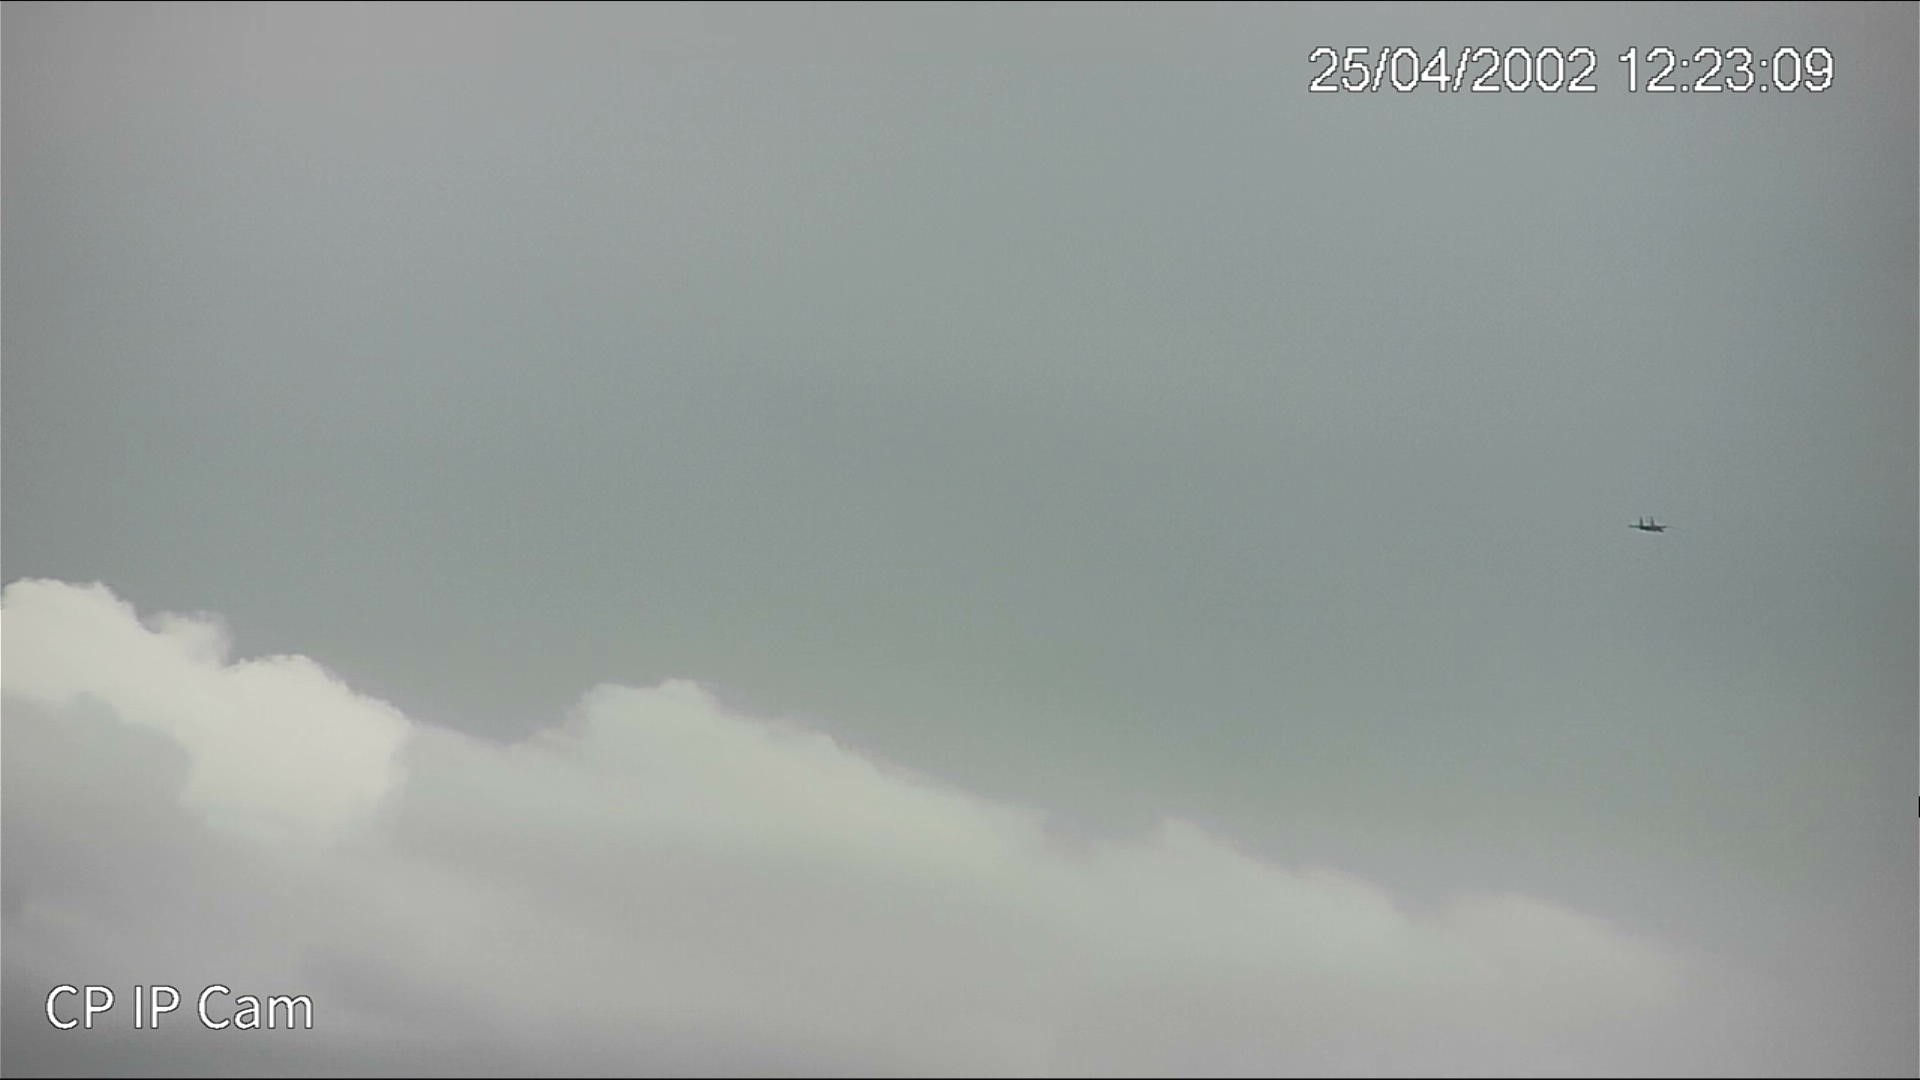SU_30: (1625, 516, 1665, 538)
